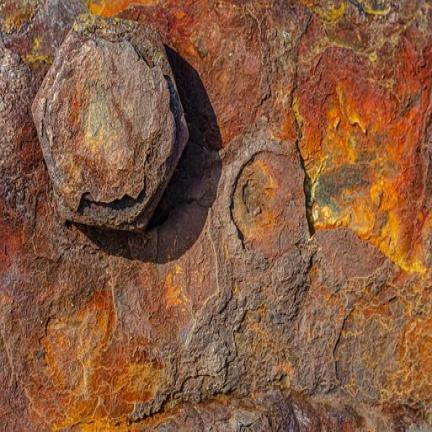karat: (291, 32, 431, 270), (36, 17, 188, 231), (21, 277, 170, 431), (333, 277, 431, 409)
